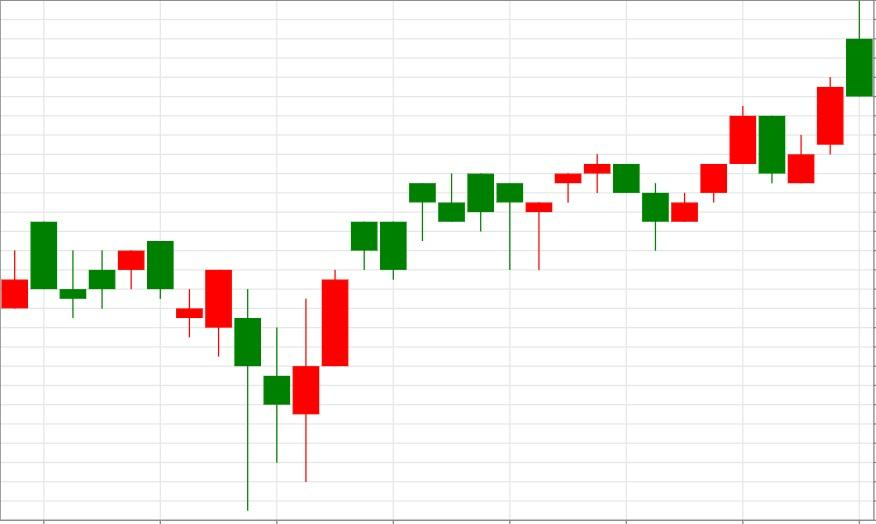bearish_engulfing_fall: (58, 239, 175, 319)
bullish_engulfing_rise: (147, 240, 320, 511)
three_white_soldiers_rise: (583, 105, 758, 252)
